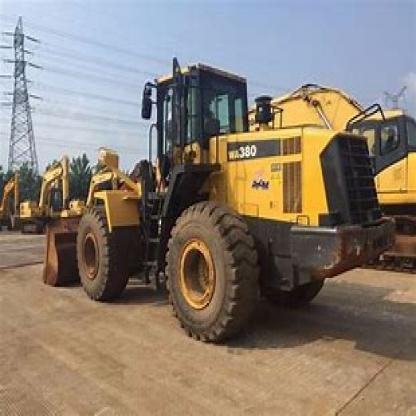bull_dozer/loader/grader: (37, 52, 404, 357)
